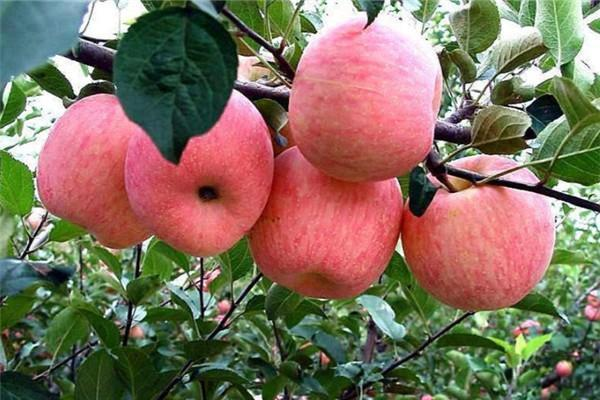apple: (246, 126, 405, 299), (286, 13, 445, 186), (401, 149, 556, 311), (130, 88, 273, 258), (38, 93, 156, 248), (553, 360, 571, 376)
